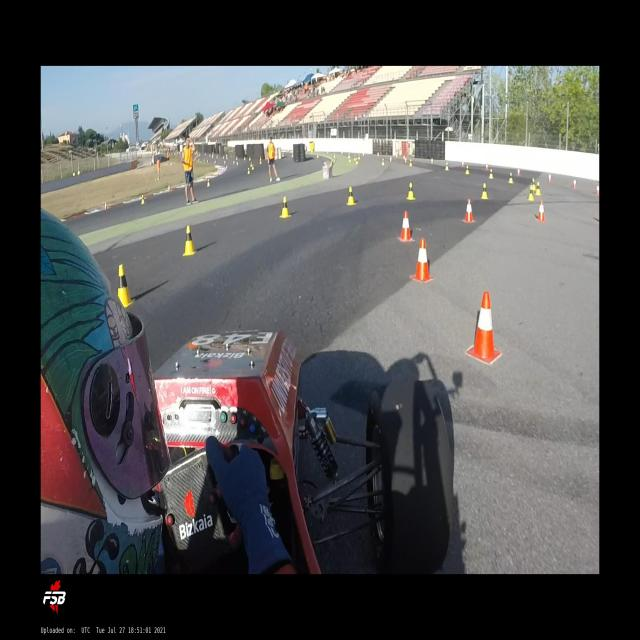orange_cone: (467, 291, 501, 364), (411, 238, 434, 283), (398, 210, 414, 242), (462, 198, 474, 223), (536, 200, 546, 222), (596, 183, 600, 195), (572, 178, 576, 189), (548, 173, 552, 182), (104, 202, 108, 209), (517, 167, 520, 176), (168, 184, 171, 192), (485, 162, 488, 170), (462, 160, 464, 167), (431, 157, 433, 164), (405, 157, 407, 163)
yellow_cone: (118, 264, 136, 308), (182, 225, 196, 255), (280, 196, 290, 218), (406, 182, 415, 201), (346, 187, 355, 205), (481, 182, 488, 200), (527, 186, 534, 200), (488, 168, 494, 179), (508, 172, 513, 184), (536, 182, 540, 196), (532, 178, 536, 190), (444, 162, 449, 170), (465, 164, 469, 174), (141, 194, 145, 204), (207, 178, 210, 187), (247, 168, 250, 175), (250, 161, 253, 167), (410, 158, 412, 166), (382, 158, 384, 166), (356, 157, 358, 165), (252, 164, 254, 170)
